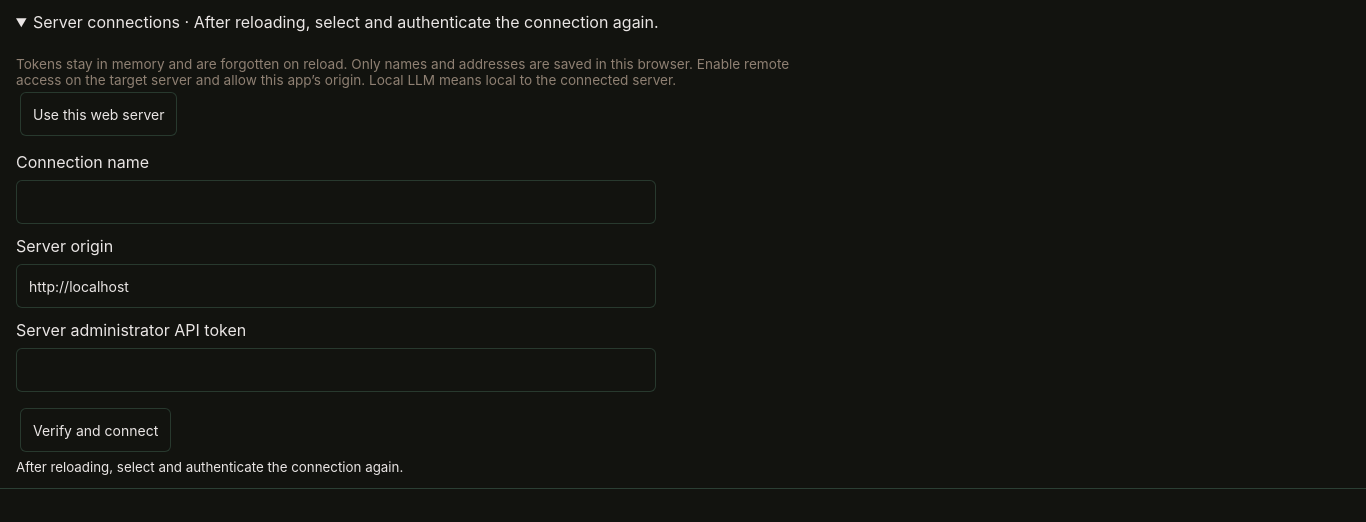
Test: leaves the active connection unchanged on verification failure
This screenshot has width=1366, height=522.
Click the button "Verify and connect".
click(96, 430)  # box [20,408,171,452]
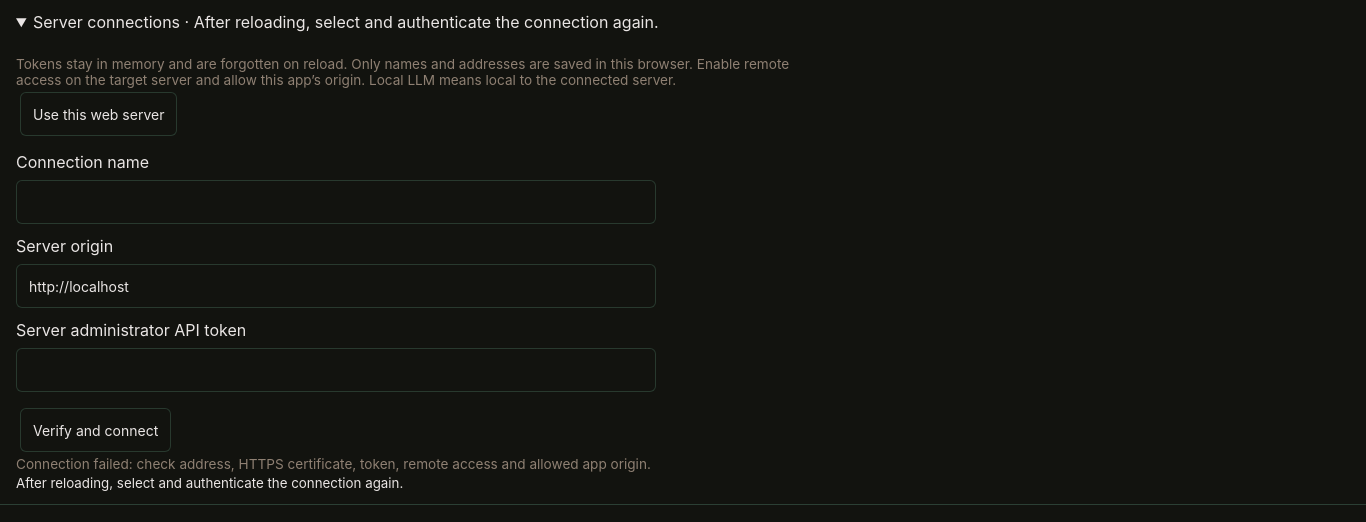
Now the text "Connection failed:" is shown, box [16,456,651,472]
